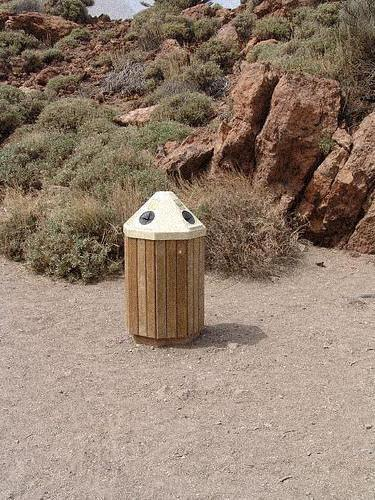Bote de Basura: (123, 193, 212, 343)
